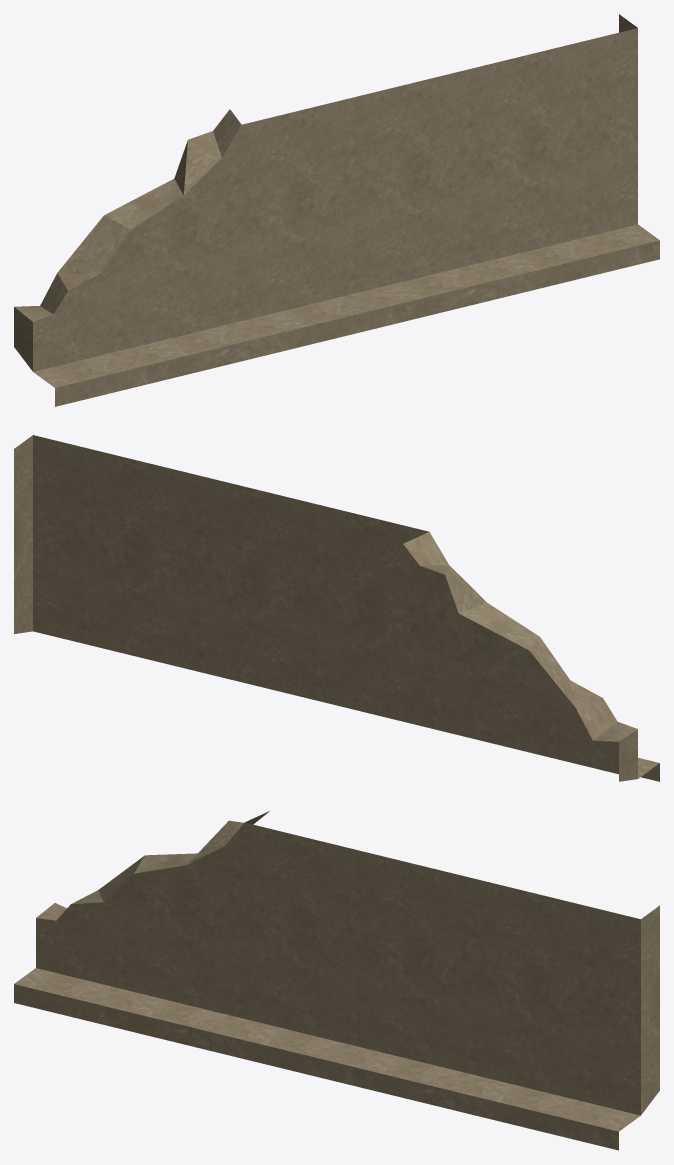
Rendered from Steps11_Build_LostTemple_001.FBX.
3 renders of one model, top to bottom at view 1: azimuth 30°, elevation 25°; view 2: azimuth 150°, elevation 25°; view 3: azimuth 330°, elevation 25°, orthographic.
Parts seen in each view (by area): view 1: Steps11_Build_LostTemple_001; view 2: Steps11_Build_LostTemple_001; view 3: Steps11_Build_LostTemple_001.
Boxes of the visible parts, left/top/right/bottom form: Steps11_Build_LostTemple_001: left=14, top=14, right=659, bottom=406; Steps11_Build_LostTemple_001: left=14, top=435, right=659, bottom=781; Steps11_Build_LostTemple_001: left=14, top=811, right=659, bottom=1150.
Size of the model in its own units: 1328 by 452 by 156.
Materials: 1 (1 with a texture image).
